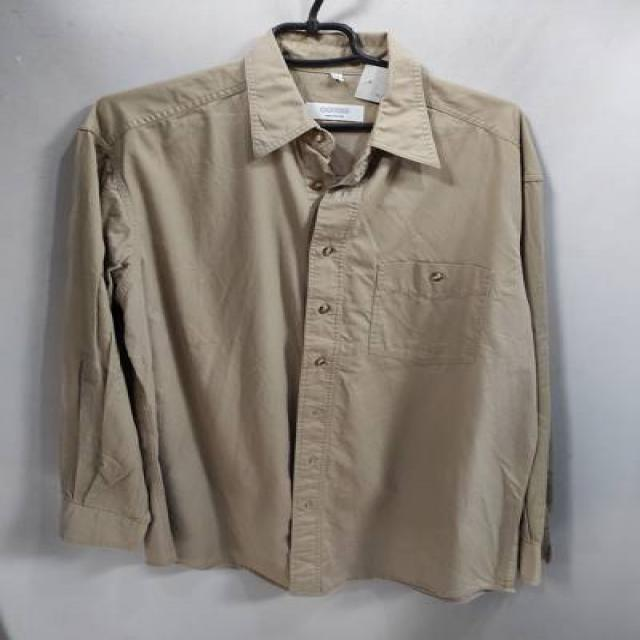Clothes -Biodegradable-: (55, 28, 553, 603)
